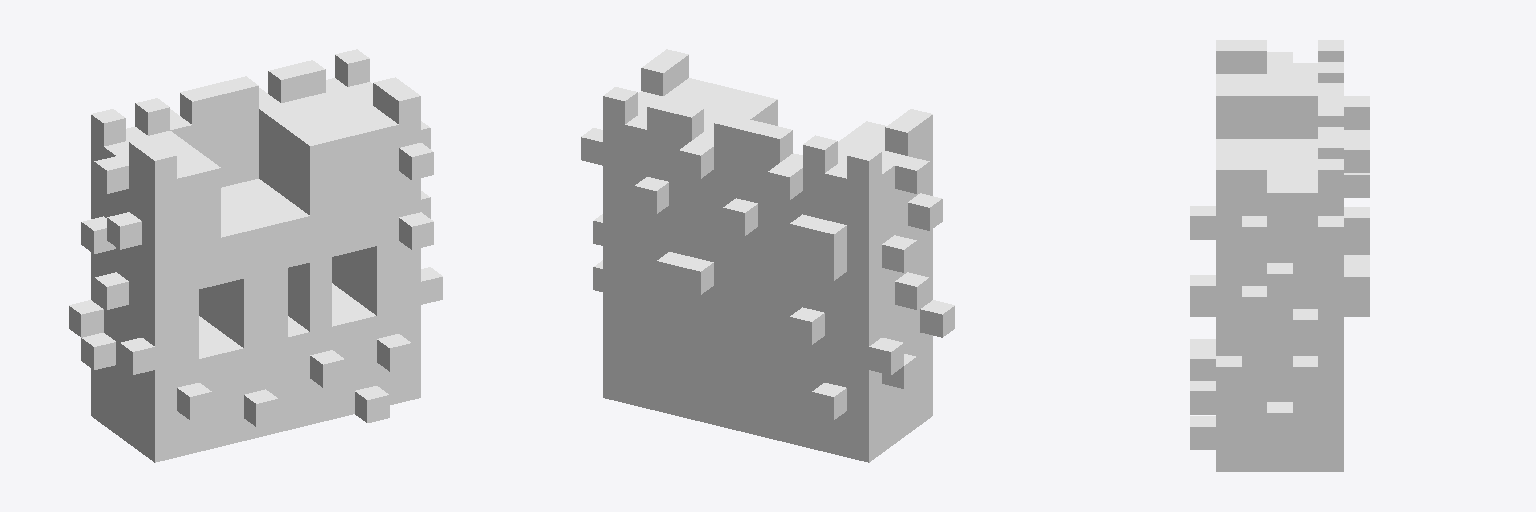
The model's file is SpellBookShelf.obj.
3 renders of one model, left to right at view 1: azimuth 30°, elevation 25°; view 2: azimuth 150°, elevation 25°; view 3: azimuth 270°, elevation 25°, orthographic.
Visible parts, largest first — view 1: SpellBookShelf; view 2: SpellBookShelf; view 3: SpellBookShelf.
Boxes of the visible parts, x1,y1,x2,y2 form: SpellBookShelf: [69, 49, 442, 462]; SpellBookShelf: [581, 49, 954, 462]; SpellBookShelf: [1190, 40, 1369, 471].
Bounding box in the file's own units: 14 × 13 × 7.